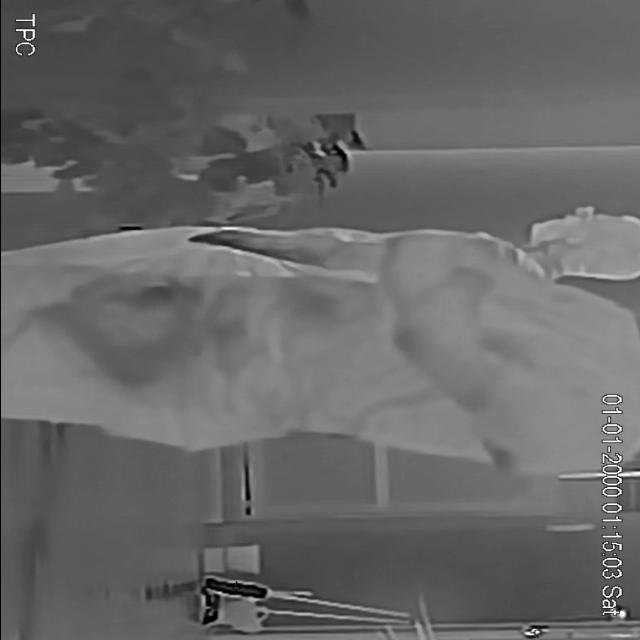Weapon: (15, 286, 202, 396)
